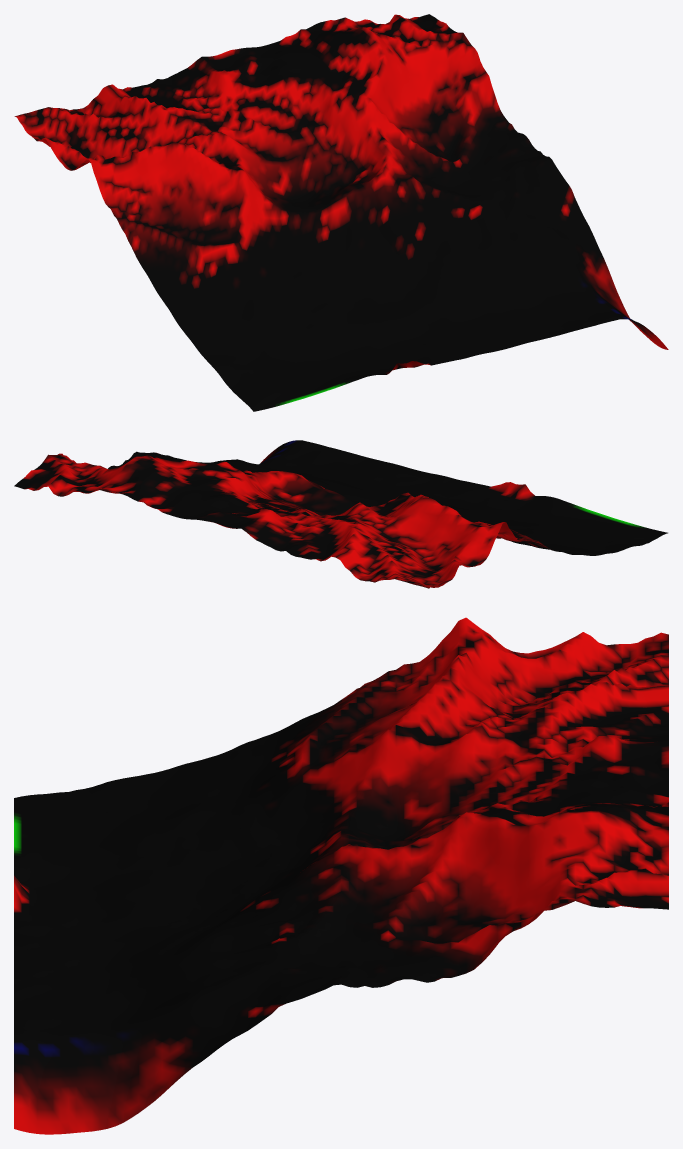
File: SM_AsirMountains_Terrain_3_2.fbx
The picture shows the model from 3 angles, top to bottom: view 1: azimuth 30°, elevation 25°; view 2: azimuth 150°, elevation 25°; view 3: azimuth 270°, elevation 25°; orthographic projection. The views are drawn at different scales.
Visible parts, largest first — view 1: SM_AsirMountains_Terrain_3_2; view 2: SM_AsirMountains_Terrain_3_2; view 3: SM_AsirMountains_Terrain_3_2.
Boxes of the visible parts, bbox=[...] form: SM_AsirMountains_Terrain_3_2: bbox=[14, 14, 668, 411]; SM_AsirMountains_Terrain_3_2: bbox=[14, 440, 667, 588]; SM_AsirMountains_Terrain_3_2: bbox=[14, 617, 668, 1134].
Size of the model in its own units: 50400 by 22251 by 50400.
